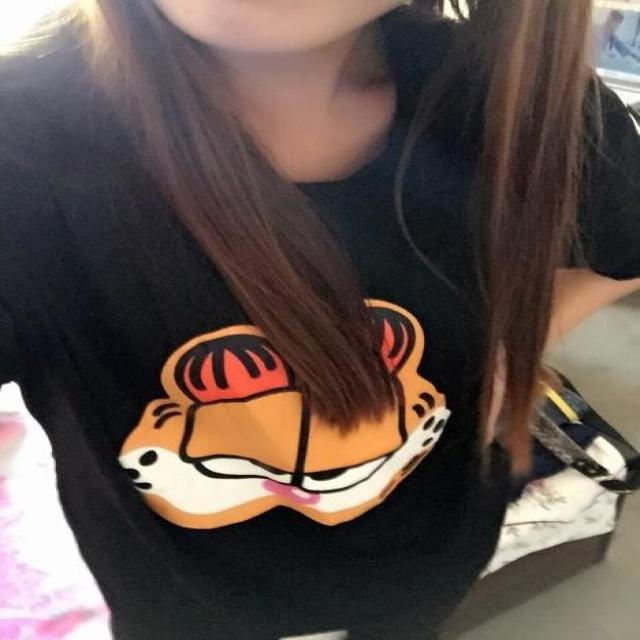short sleeve top: (1, 3, 639, 637)
